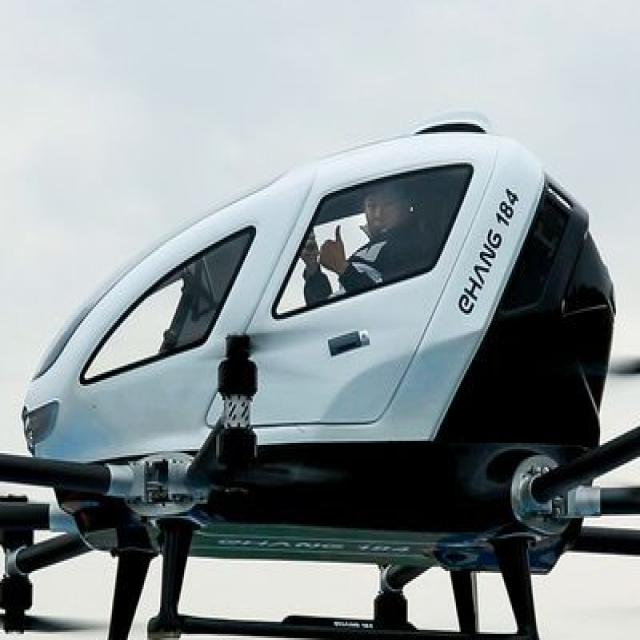drone: (0, 349, 640, 640)
